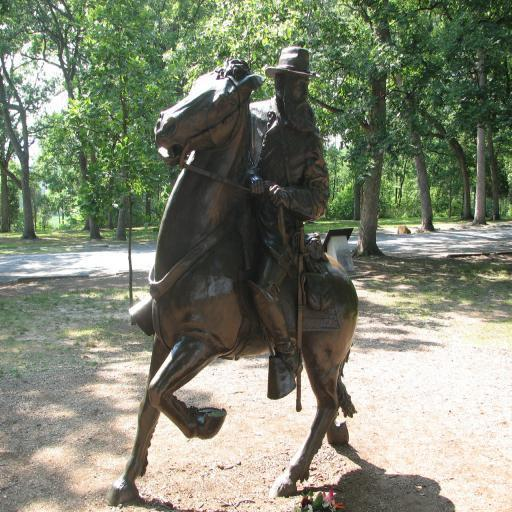horse: (104, 56, 359, 508)
